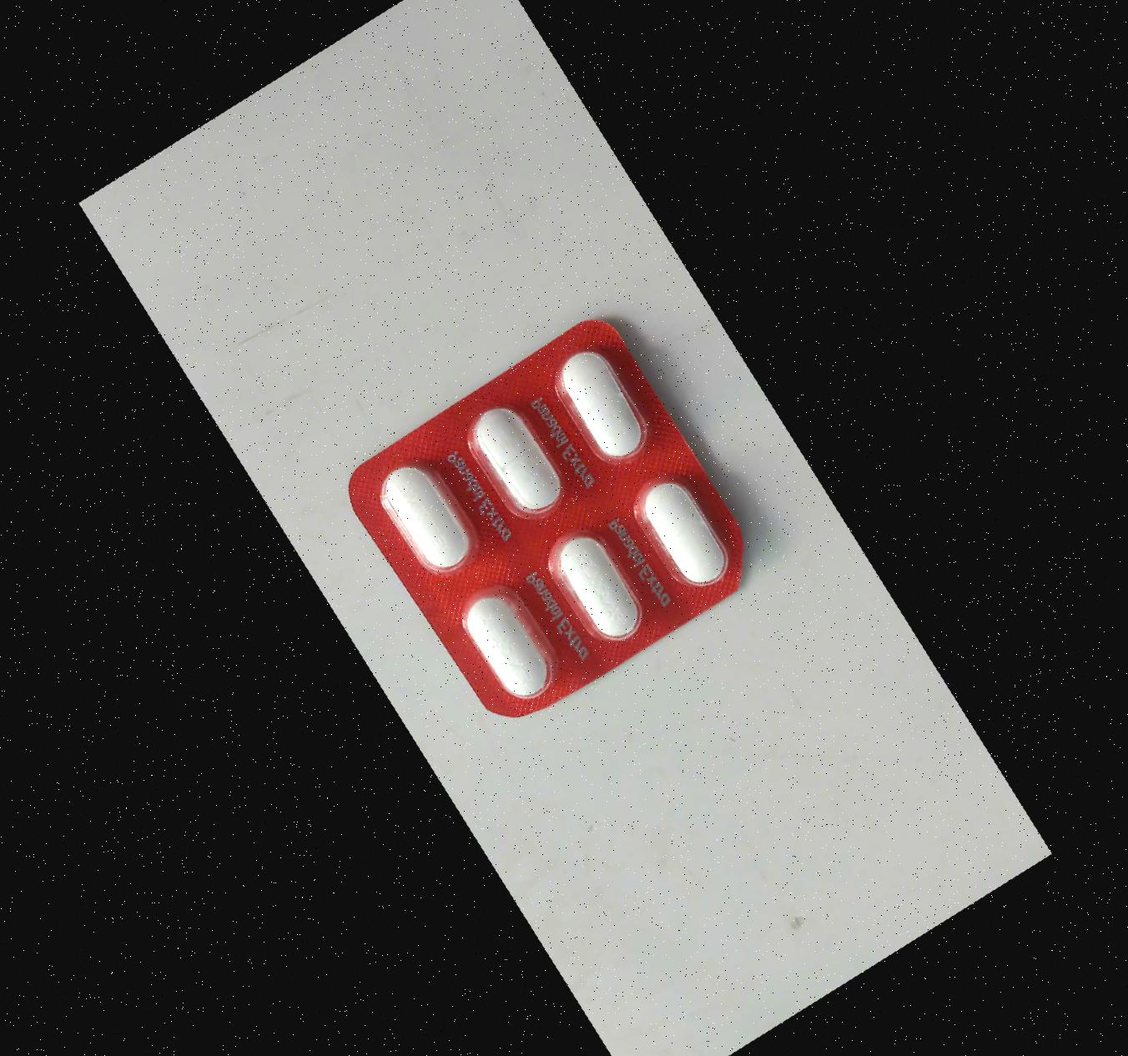Full: (448, 382, 586, 536), (528, 509, 665, 663), (359, 444, 493, 598), (438, 570, 572, 723), (533, 331, 666, 483), (615, 457, 748, 608)
